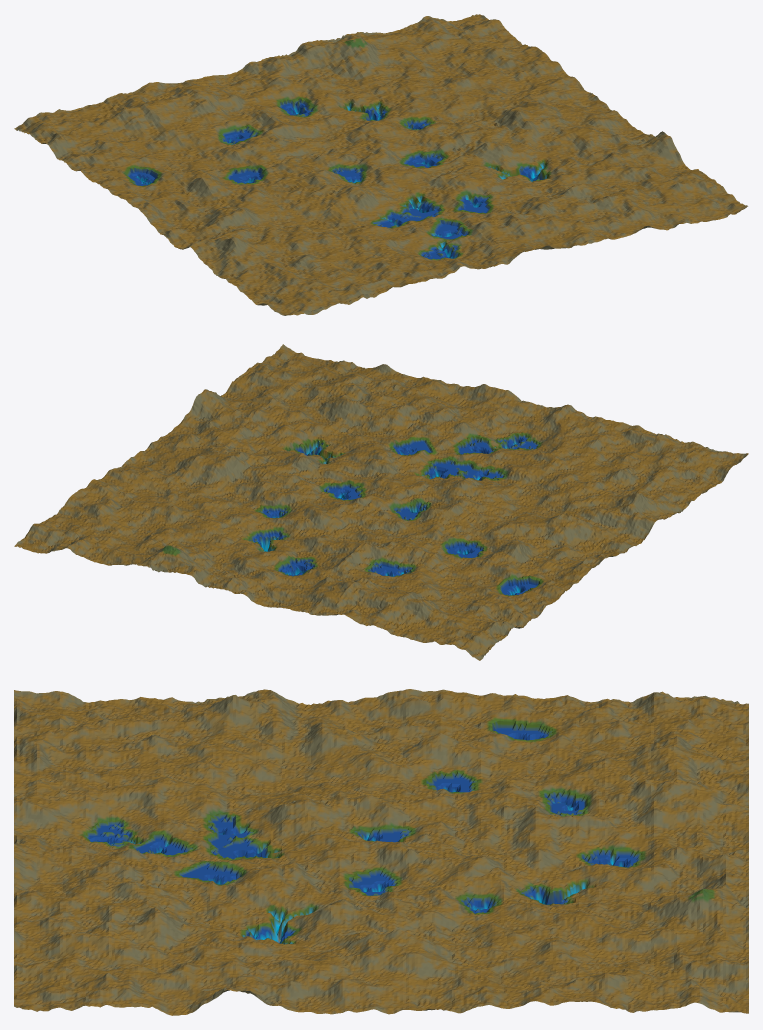
The model's file is terrain_WATER.obj.
The picture shows the model from 3 angles, top to bottom: view 1: azimuth 30°, elevation 25°; view 2: azimuth 150°, elevation 25°; view 3: azimuth 270°, elevation 25°; orthographic projection. The views are drawn at different scales.
Visible parts, largest first — view 1: WATER; view 2: WATER; view 3: WATER.
Part boxes in pixels (x1,y1,x2,y2): WATER: [14, 14, 747, 315]; WATER: [14, 344, 748, 660]; WATER: [14, 689, 748, 1015].
Bounding box in the file's own units: 255 × 25.11 × 255.
1 material, 1 textured.
